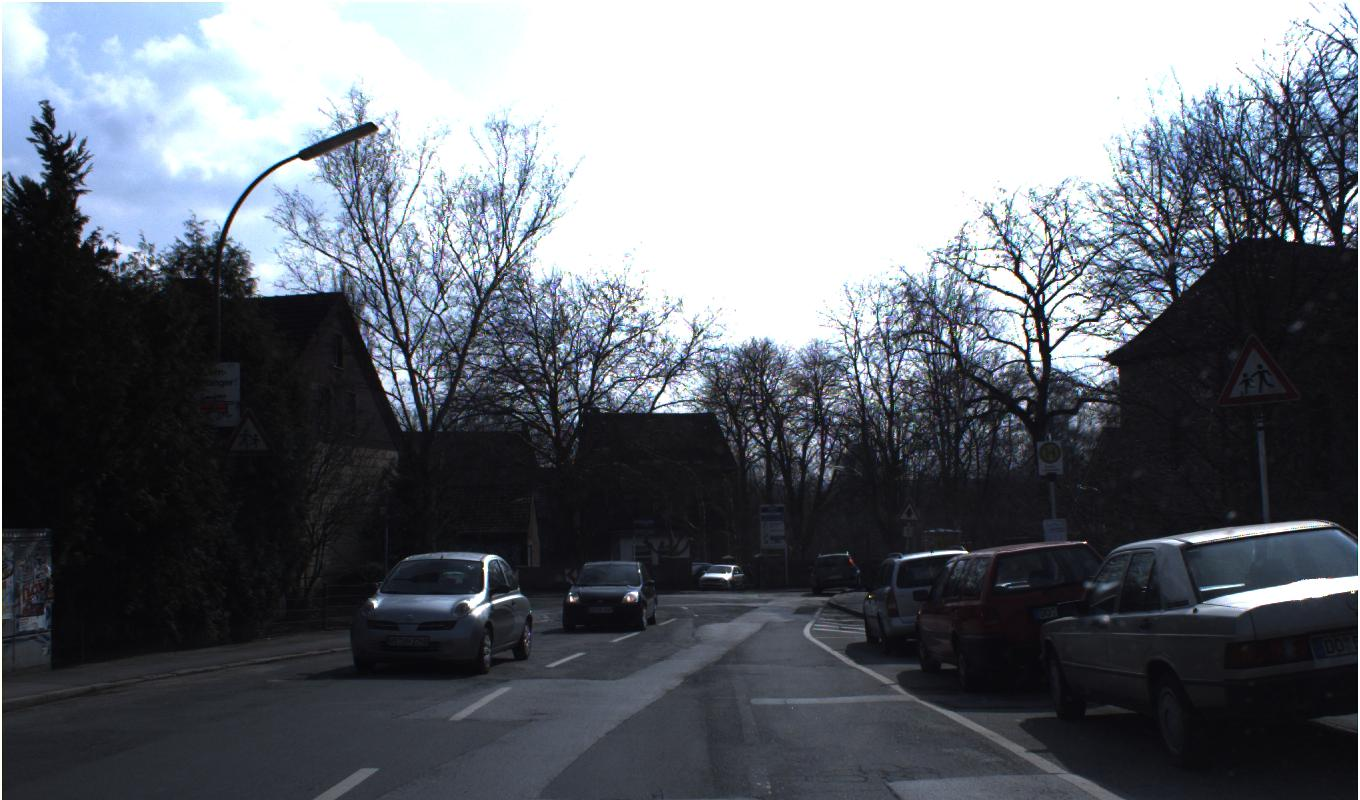danger: (1215, 332, 1302, 407), (224, 407, 279, 457), (895, 497, 922, 524)
